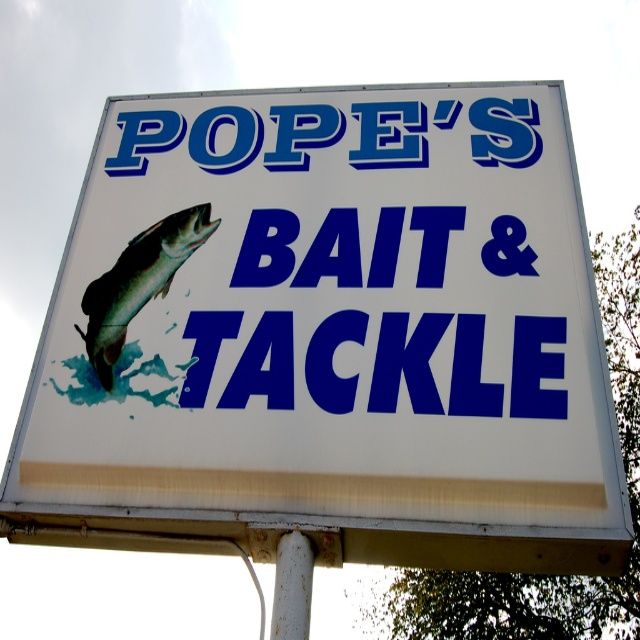Shark: (72, 195, 226, 387)
